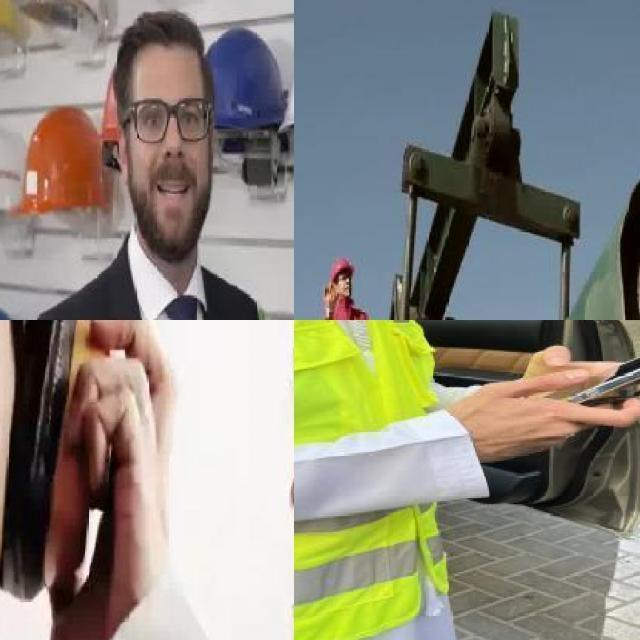apron: (322, 282, 337, 314)
